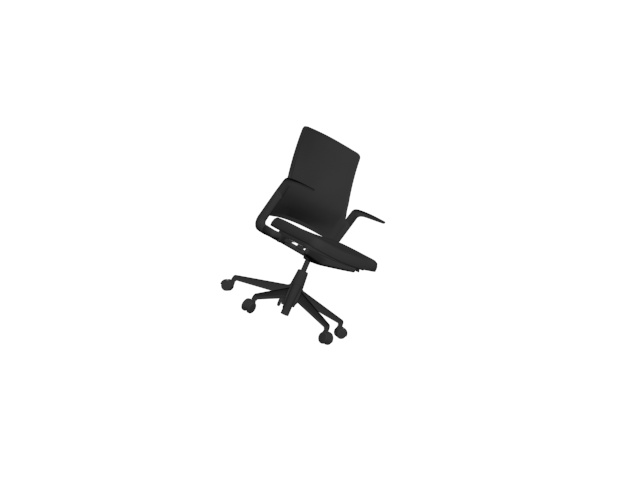desk_chair: (217, 121, 392, 352)
